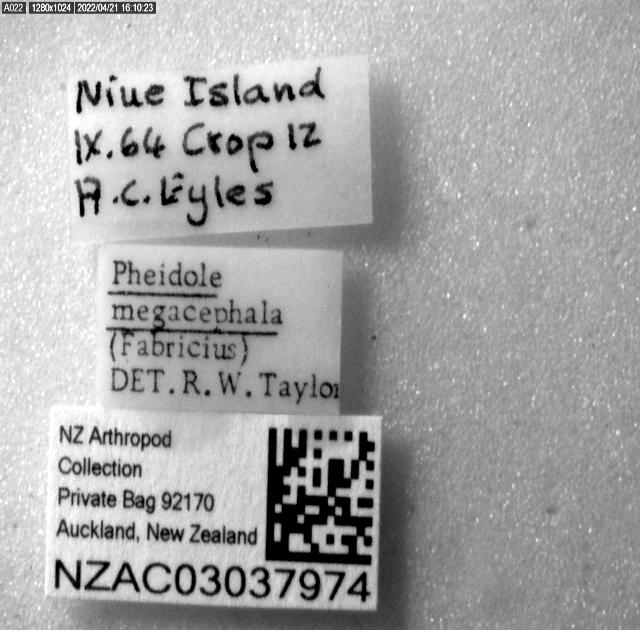hand_label: (68, 56, 372, 242)
typed_label: (46, 406, 381, 609), (98, 244, 342, 414)
